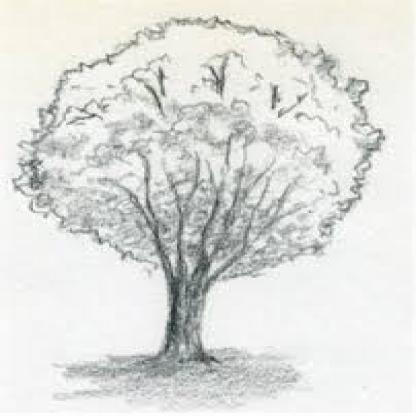branch_line: (116, 142, 300, 258)
crown_mushroom: (15, 18, 388, 281)
root_none: (141, 342, 233, 376)
trunk_bark: (156, 292, 221, 336)
